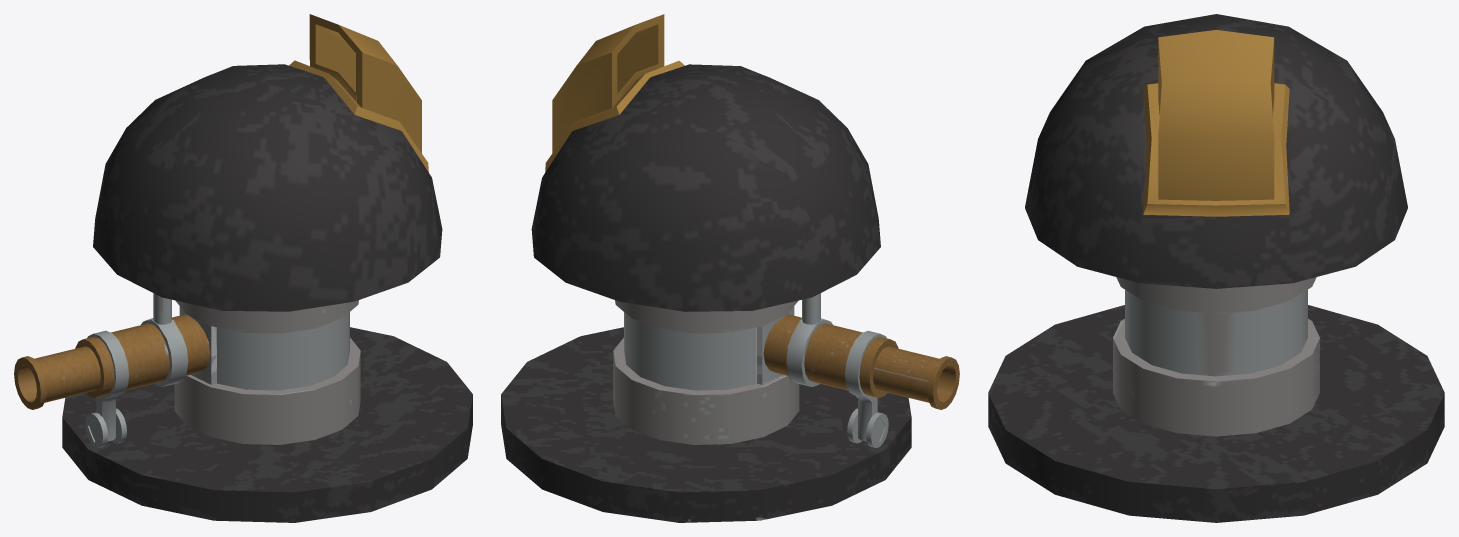
The model's file is Kanonada.fbx.
3 renders of one model, left to right at view 1: azimuth 30°, elevation 25°; view 2: azimuth 150°, elevation 25°; view 3: azimuth 270°, elevation 25°, orthographic. The views are drawn at different scales.
Visible parts, largest first — view 1: Kanonada; view 2: Kanonada; view 3: Kanonada.
Boxes of the visible parts, x1,y1,x2,y2 form: Kanonada: (14, 14, 472, 522); Kanonada: (501, 14, 959, 522); Kanonada: (988, 14, 1444, 522).
Bounding box in the file's own units: 234 × 210 × 200.
1 material, 1 textured.
